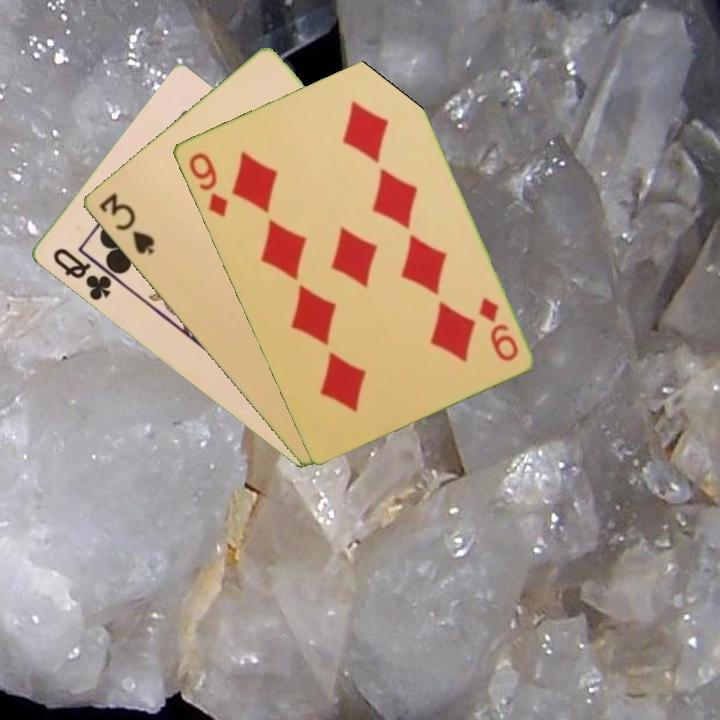3s: (95, 188, 157, 258)
9d: (184, 148, 231, 220), (474, 293, 521, 364)
Qc: (48, 244, 122, 304)
